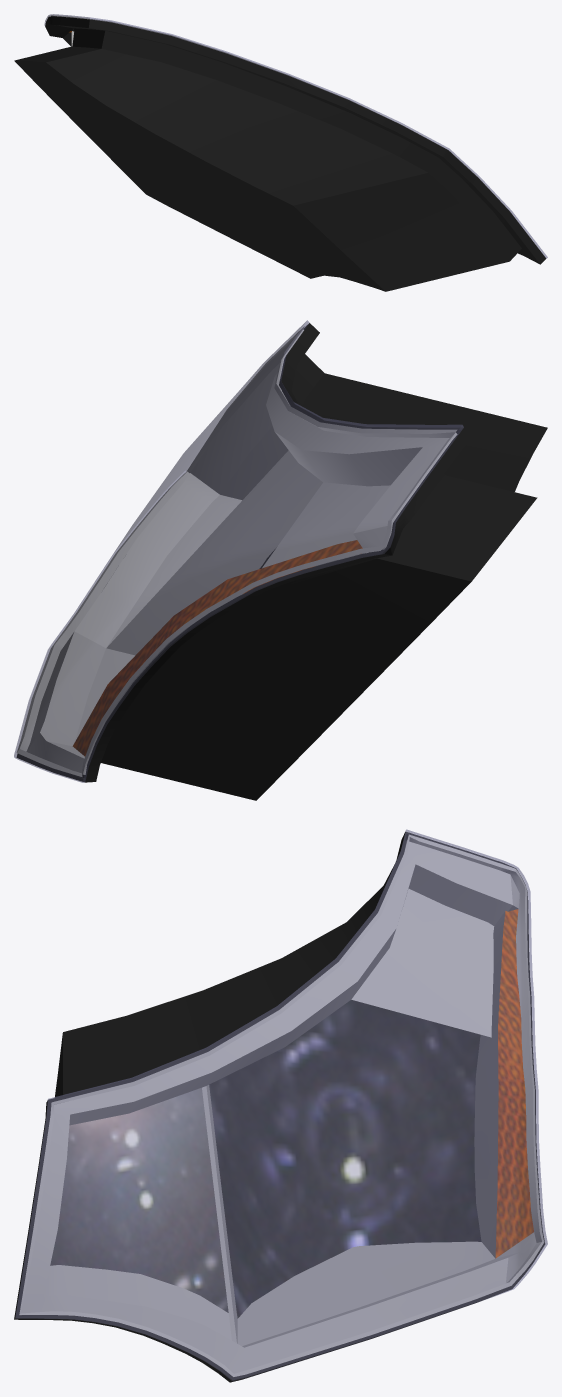
The picture shows the model from 3 angles, top to bottom: view 1: azimuth 30°, elevation 25°; view 2: azimuth 150°, elevation 25°; view 3: azimuth 270°, elevation 25°; orthographic projection. The views are drawn at different scales.
Parts seen in each view (by area): view 1: P159_061B_L_P159_061B_L_3_D, P159_061B_L_P159_061B_L_6_DTaSI, P159_061B_L_P159_061B_L_2_DaS; view 2: P159_061B_L_P159_061B_L_3_D, P159_061B_L_P159_061B_L_6_DTaSI, P159_061B_L_P159_061B_L_2_DaS, P159_061B_L_P159_061B_L_5_N; view 3: P159_061B_L_P159_061B_L_6_DTaSI, P159_061B_L_P159_061B_L_2_DaS, P159_061B_L_P159_061B_L_4_N, P159_061B_L_1_N_P159_061B_L, P159_061B_L_P159_061B_L_3_D, P159_061B_L_P159_061B_L_5_N.
Boxes of the visible parts, left/top/right/bottom form: P159_061B_L_P159_061B_L_3_D: left=14, top=16, right=546, bottom=291; P159_061B_L_P159_061B_L_6_DTaSI: left=44, top=14, right=547, bottom=258; P159_061B_L_P159_061B_L_2_DaS: left=50, top=15, right=505, bottom=206; P159_061B_L_P159_061B_L_3_D: left=16, top=323, right=547, bottom=800; P159_061B_L_P159_061B_L_6_DTaSI: left=14, top=320, right=463, bottom=782; P159_061B_L_P159_061B_L_2_DaS: left=17, top=326, right=457, bottom=776; P159_061B_L_P159_061B_L_5_N: left=73, top=540, right=362, bottom=756; P159_061B_L_P159_061B_L_6_DTaSI: left=15, top=829, right=547, bottom=1381; P159_061B_L_P159_061B_L_2_DaS: left=19, top=834, right=543, bottom=1376; P159_061B_L_P159_061B_L_4_N: left=209, top=1000, right=481, bottom=1318; P159_061B_L_1_N_P159_061B_L: left=50, top=1088, right=228, bottom=1312; P159_061B_L_P159_061B_L_3_D: left=14, top=831, right=544, bottom=1382; P159_061B_L_P159_061B_L_5_N: left=495, top=909, right=533, bottom=1257.
Size of the model in its own units: 48.2 by 33.68 by 46.24.
